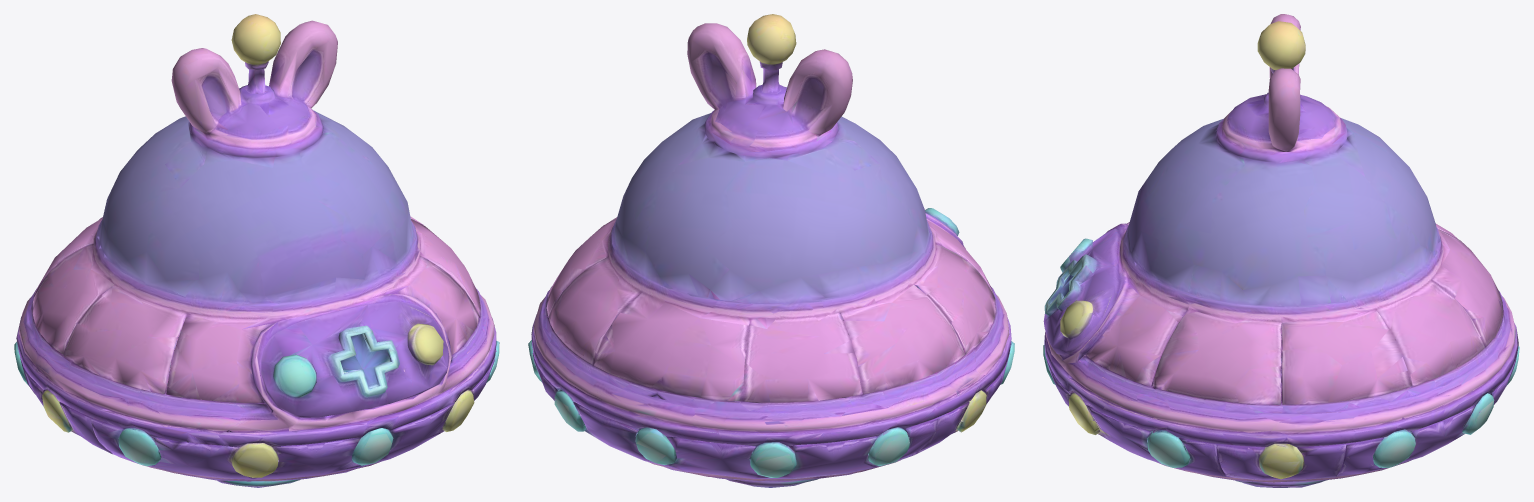
The model's file is game.glb.
3 views of the same model, side by side, from view 1: azimuth 30°, elevation 25°; view 2: azimuth 150°, elevation 25°; view 3: azimuth 270°, elevation 25° (orthographic).
Parts seen in each view (by area): view 1: R04_ufo; view 2: R04_ufo; view 3: R04_ufo.
Part boxes in pixels (left/top/right/bottom): R04_ufo: left=14, top=14, right=499, bottom=487; R04_ufo: left=528, top=14, right=1014, bottom=487; R04_ufo: left=1043, top=14, right=1519, bottom=487.
Size of the model in its own units: 0.9777 by 1 by 0.9786.
1 material, 1 textured.
